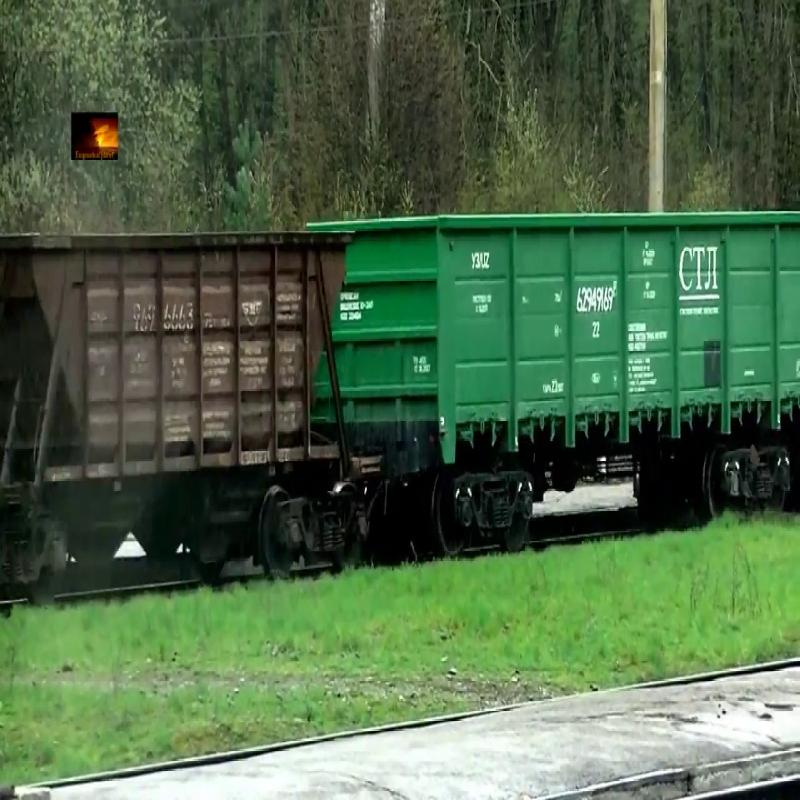train: (313, 209, 798, 475), (1, 225, 357, 487)
